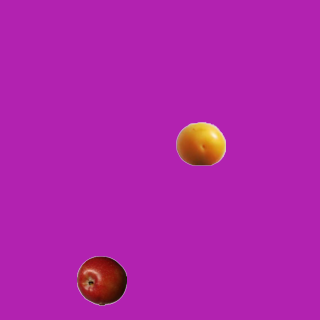Apple Braeburn: (76, 255, 126, 305)
Cherry Wax Yellow: (175, 118, 225, 168)
